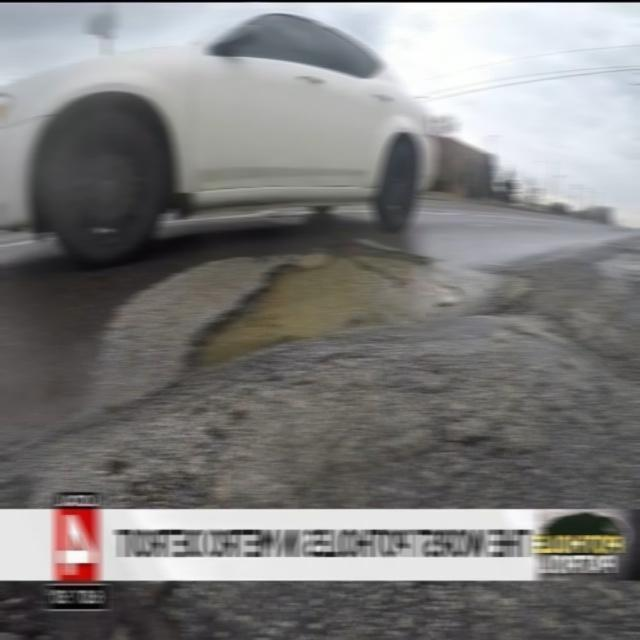Pothole: (162, 244, 540, 387)
